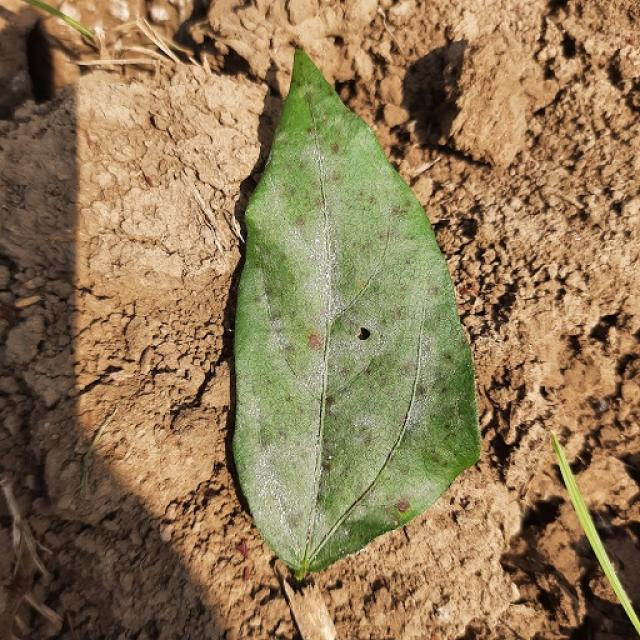Blackgram: (233, 41, 479, 573)
Powdery_Mildew: (286, 93, 338, 572), (323, 322, 413, 480), (382, 313, 426, 481), (303, 162, 337, 335), (346, 243, 417, 320), (293, 133, 339, 230), (255, 459, 316, 525), (305, 526, 377, 574), (299, 241, 335, 325), (301, 522, 316, 563), (336, 545, 344, 555), (327, 454, 333, 460)
